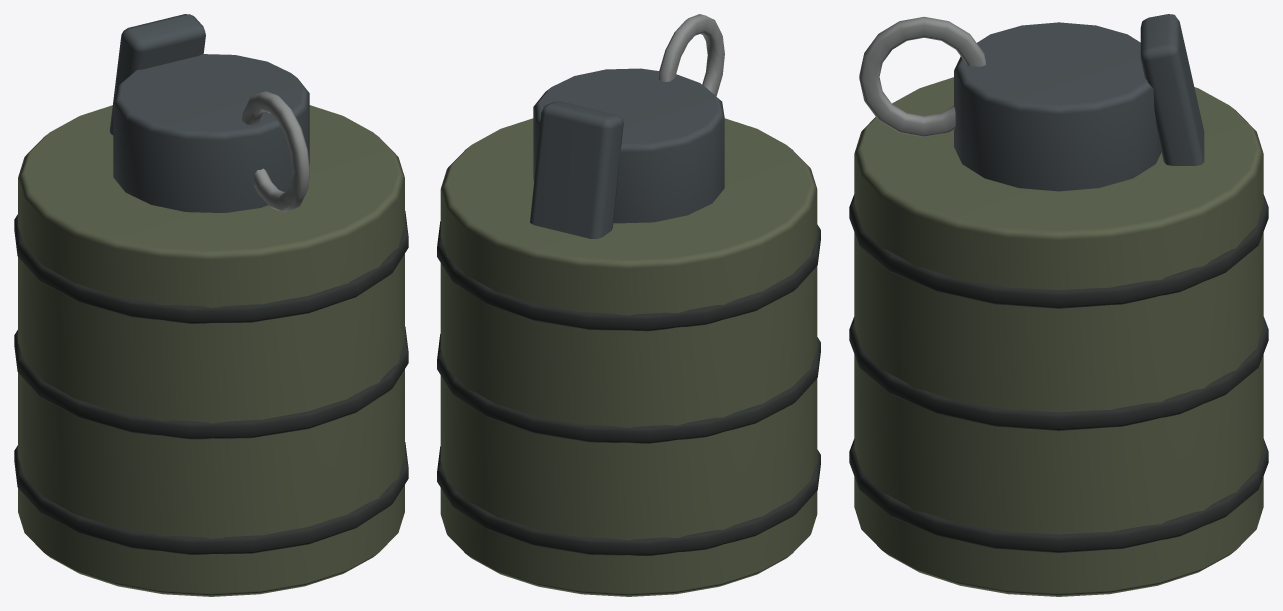
File: wep_grenade.glb
3 views of the same model, side by side, from view 1: azimuth 30°, elevation 25°; view 2: azimuth 150°, elevation 25°; view 3: azimuth 270°, elevation 25° (orthographic). The views are drawn at different scales.
Parts seen in each view (by area): view 1: wep_grenade_nc7_olive, wep_grenade_nc7_alloy, wep_grenade_nc7_polymer, wep_grenade_nc7_edge; view 2: wep_grenade_nc7_olive, wep_grenade_nc7_alloy, wep_grenade_nc7_polymer, wep_grenade_nc7_edge; view 3: wep_grenade_nc7_olive, wep_grenade_nc7_alloy, wep_grenade_nc7_polymer, wep_grenade_nc7_edge.
Part boxes in pixels (<box>): wep_grenade_nc7_olive: <box>18,105,404,596</box>; wep_grenade_nc7_alloy: <box>109,14,309,212</box>; wep_grenade_nc7_polymer: <box>14,211,408,554</box>; wep_grenade_nc7_edge: <box>241,91,309,212</box>; wep_grenade_nc7_olive: <box>440,118,817,596</box>; wep_grenade_nc7_alloy: <box>530,68,724,239</box>; wep_grenade_nc7_polymer: <box>437,221,820,555</box>; wep_grenade_nc7_edge: <box>658,14,724,96</box>; wep_grenade_nc7_olive: <box>854,77,1263,596</box>; wep_grenade_nc7_alloy: <box>954,14,1204,191</box>; wep_grenade_nc7_polymer: <box>849,194,1268,552</box>; wep_grenade_nc7_edge: <box>859,16,985,137</box>.
Size of the model in its own units: 0.084 by 0.1095 by 0.084.
